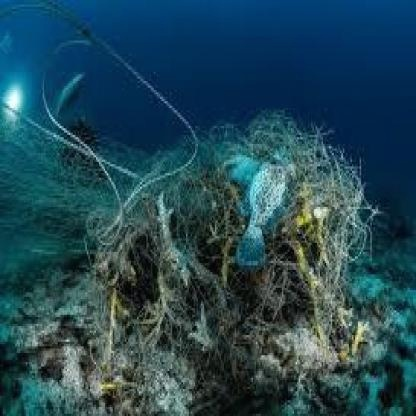net: (91, 121, 372, 371)
